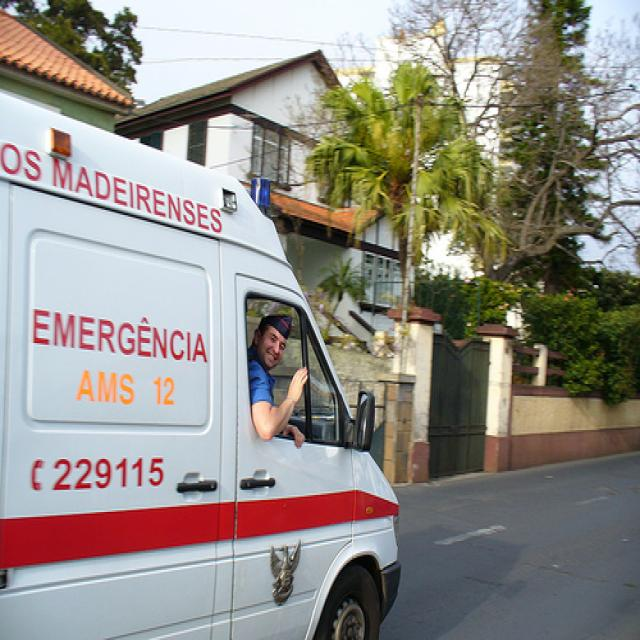emergency-vehicle: (0, 89, 403, 636)
